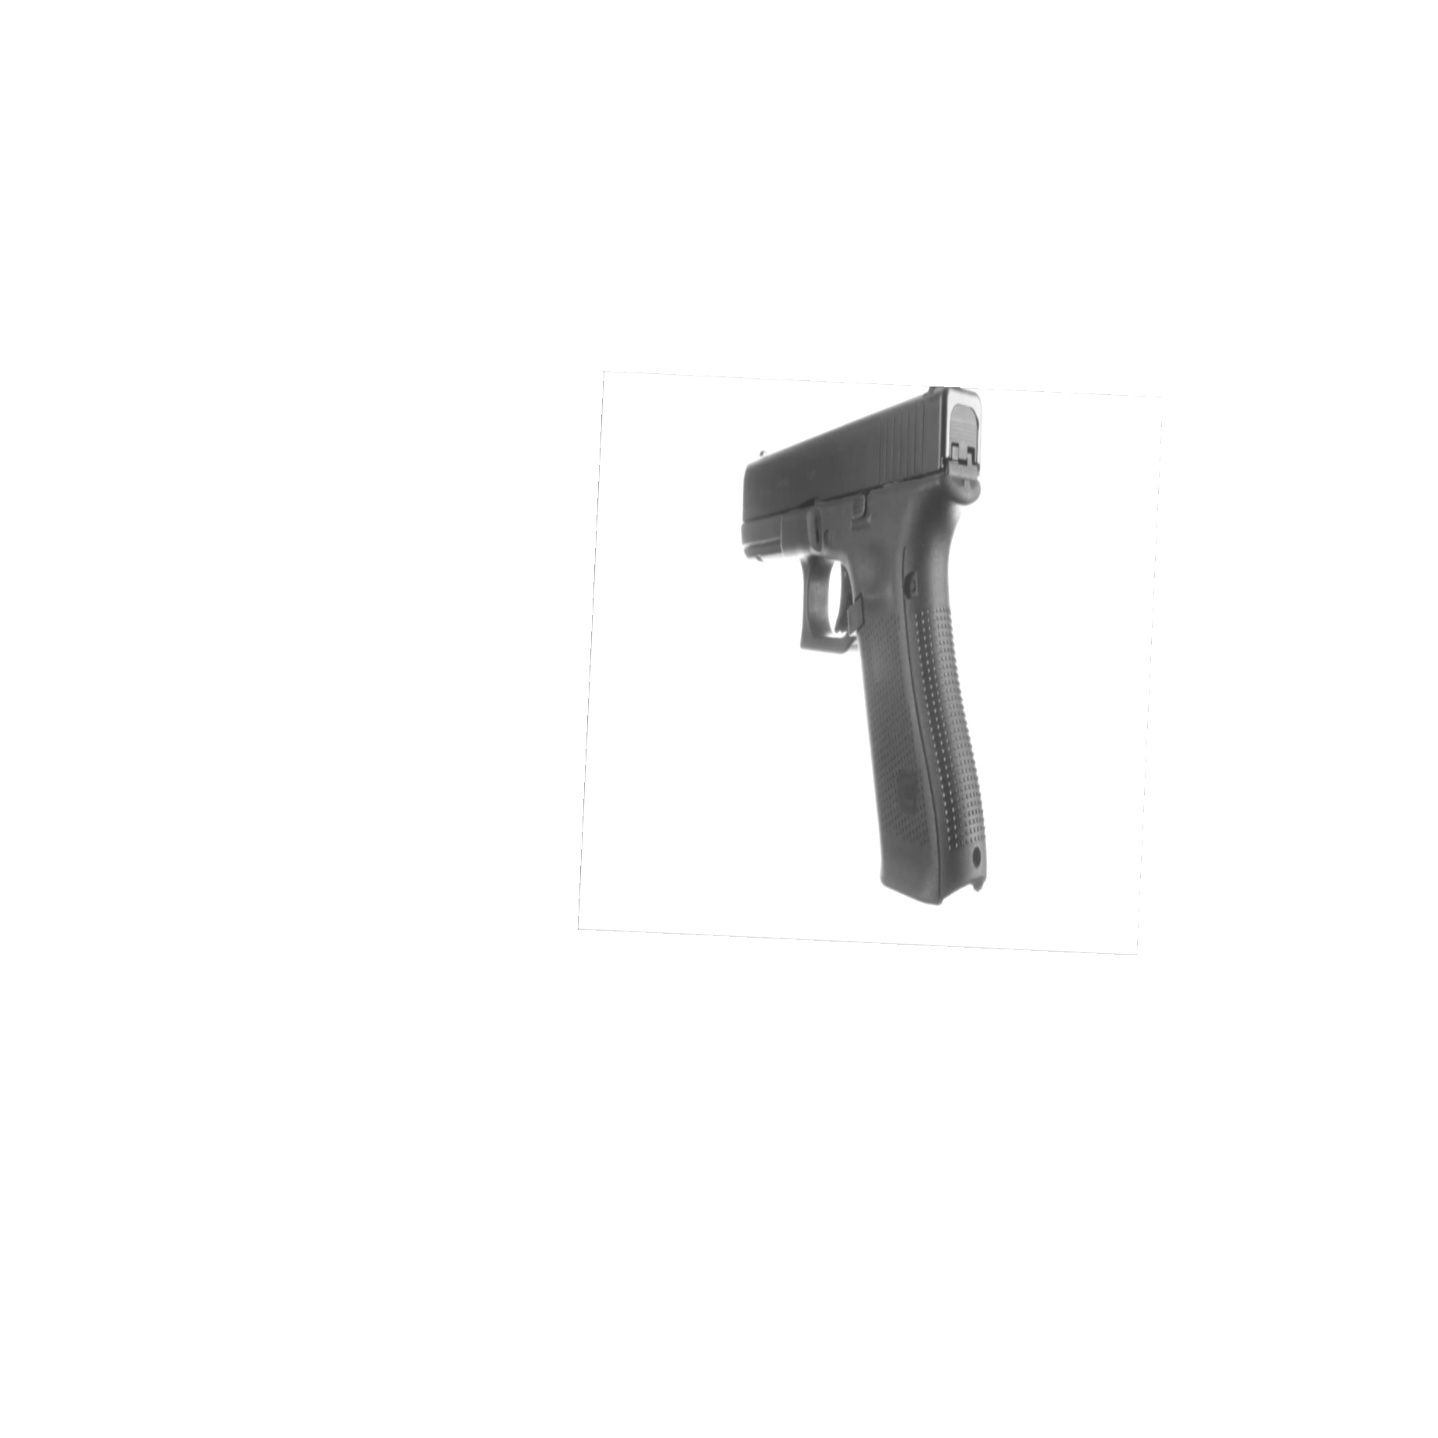gun: (741, 381, 990, 905)
